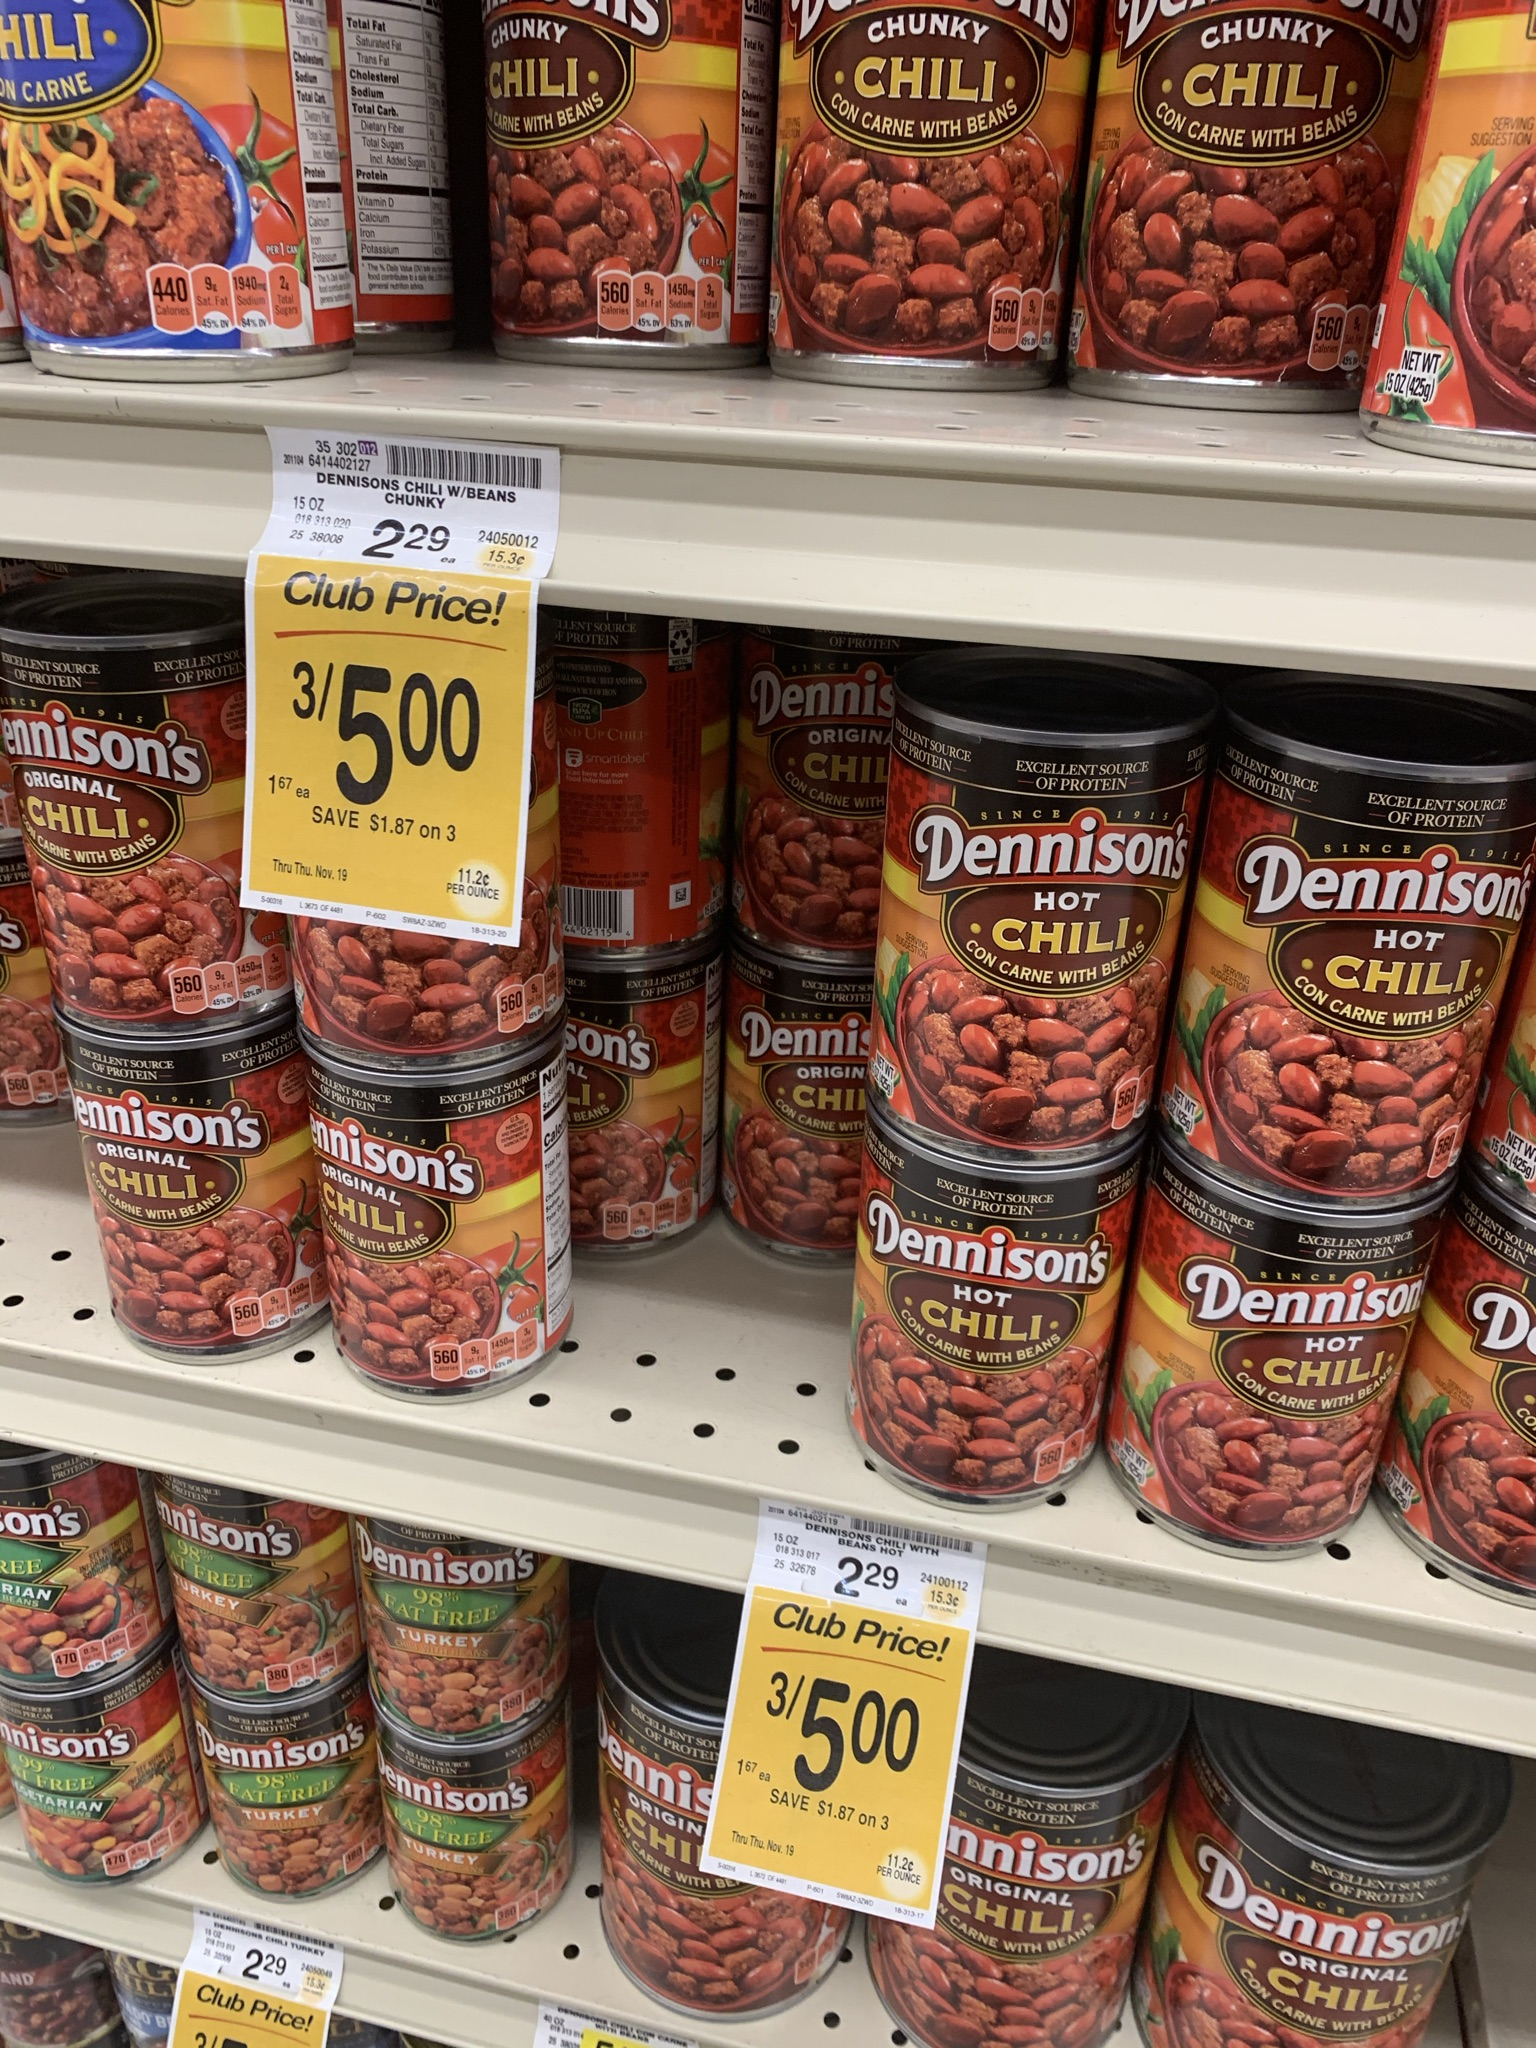can: (1100, 2, 1420, 411), (758, 2, 1073, 397), (2, 3, 340, 360), (1226, 735, 1492, 1184), (479, 2, 763, 373), (905, 731, 1149, 1142), (857, 1172, 1107, 1490), (32, 651, 234, 1005), (1142, 1232, 1396, 1506), (324, 1063, 547, 1361), (1215, 1764, 1447, 2048), (115, 1040, 311, 1371), (939, 1801, 1141, 2042), (358, 1517, 565, 1748), (189, 1477, 357, 1685), (376, 1734, 544, 1937), (202, 1709, 360, 1896), (6, 1479, 150, 1664), (6, 1701, 177, 1853)
